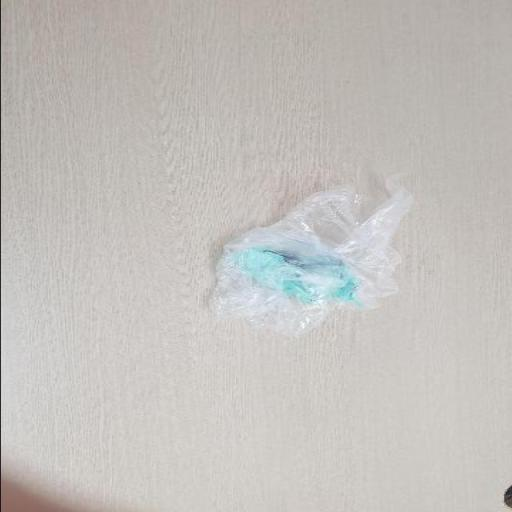plastic-bag: (202, 168, 416, 338)
